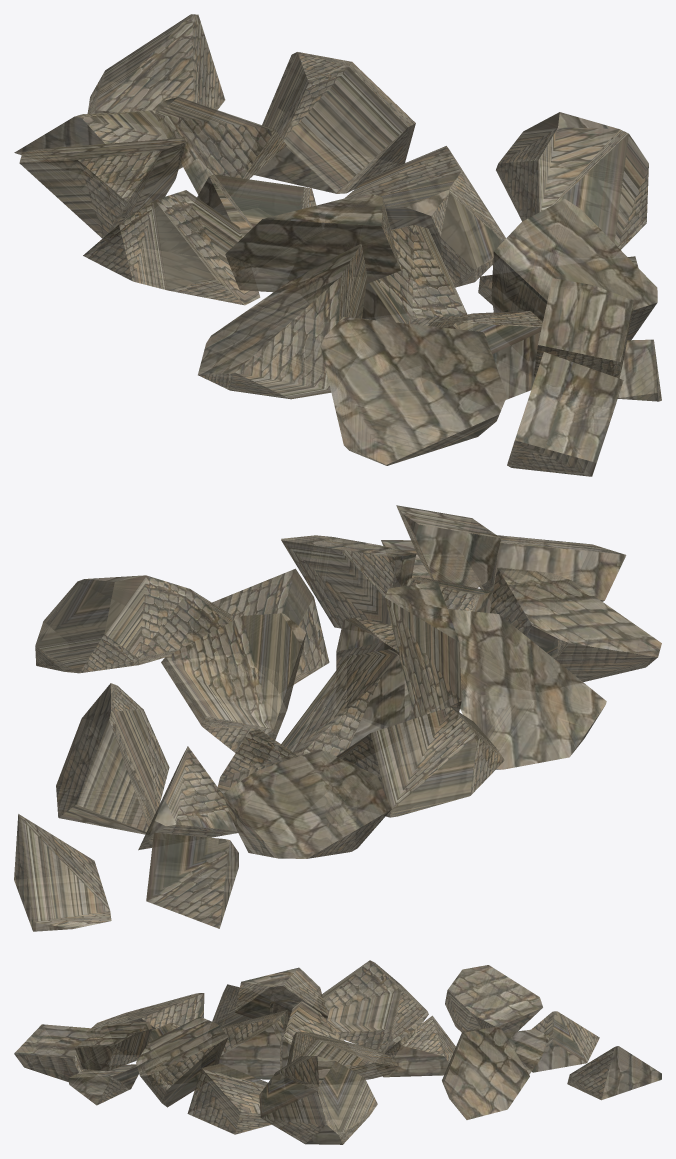
Rendered from BreakWallSmall_000017.obj.
3 views of the same model, one above another, from view 1: azimuth 30°, elevation 25°; view 2: azimuth 150°, elevation 25°; view 3: azimuth 270°, elevation 25° (orthographic). The views are drawn at different scales.
Parts seen in each view (by area): view 1: Cube.002_cell.013_Cube.002_cell.012, Cube.002_cell.014_Cube.002_cell.013, Cube.002_cell.017_Cube.002_cell.016, Cube.002_cell.003_Cube.002_cell.002, Cube.002_cell.004_Cube.002_cell.003, Cube.002_cell.012_Cube.002_cell.011, Cube.002_cell.009_Cube.002_cell.008, Cube.002_cell.015_Cube.002_cell.014, Cube.002_cell.010_Cube.002_cell.009, Cube.002_cell.002_Cube.002_cell.001, Cube.002_cell.005_Cube.002_cell.004, Cube.002_cell.007_Cube.002_cell.006 (+6 smaller); view 2: Cube.002_cell.017_Cube.002_cell.016, Cube.002_cell.003_Cube.002_cell.002, Cube.002_cell.010_Cube.002_cell.009, Cube.002_cell.015_Cube.002_cell.014, Cube.002_cell.014_Cube.002_cell.013, Cube.002_cell.013_Cube.002_cell.012, Cube.002_cell.012_Cube.002_cell.011, Cube.002_cell.006_Cube.002_cell.005, Cube.002_cell.004_Cube.002_cell.003, Cube.002_cell.005_Cube.002_cell.004, Cube.002_cell.009_Cube.002_cell.008, Cube.002_cell.018_Cube.002_cell.017 (+7 smaller); view 3: Cube.002_cell.003_Cube.002_cell.002, Cube.002_cell.012_Cube.002_cell.011, Cube.002_cell.014_Cube.002_cell.013, Cube.002_cell.004_Cube.002_cell.003, Cube.002_cell.010_Cube.002_cell.009, Cube.002_cell.016_Cube.002_cell.015, Cube.002_cell.008_Cube.002_cell.007, Cube.002_cell.009_Cube.002_cell.008, Cube.002_cell.005_Cube.002_cell.004, Cube.002_cell.002_Cube.002_cell.001, Cube.002_cell_Cube.002_cell.020, Cube.002_cell.007_Cube.002_cell.006 (+7 smaller).
Boxes of the visible parts, x1,y1,x2,y2 form: Cube.002_cell.013_Cube.002_cell.012: (320, 317, 506, 465); Cube.002_cell.014_Cube.002_cell.013: (254, 52, 415, 193); Cube.002_cell.017_Cube.002_cell.016: (198, 243, 367, 399); Cube.002_cell.003_Cube.002_cell.002: (496, 112, 648, 249); Cube.002_cell.004_Cube.002_cell.003: (491, 199, 657, 340); Cube.002_cell.012_Cube.002_cell.011: (83, 190, 260, 305); Cube.002_cell.009_Cube.002_cell.008: (225, 192, 400, 292); Cube.002_cell.015_Cube.002_cell.014: (345, 146, 505, 287); Cube.002_cell.010_Cube.002_cell.009: (19, 138, 185, 238); Cube.002_cell.002_Cube.002_cell.001: (507, 352, 623, 476); Cube.002_cell.005_Cube.002_cell.004: (87, 14, 225, 113); Cube.002_cell.007_Cube.002_cell.006: (534, 278, 633, 378); Cube.002_cell.017_Cube.002_cell.016: (447, 609, 606, 769); Cube.002_cell.003_Cube.002_cell.002: (35, 575, 233, 673); Cube.002_cell.010_Cube.002_cell.009: (222, 749, 391, 858); Cube.002_cell.015_Cube.002_cell.014: (161, 613, 306, 752); Cube.002_cell.014_Cube.002_cell.013: (56, 683, 169, 834); Cube.002_cell.013_Cube.002_cell.012: (490, 567, 661, 681); Cube.002_cell.012_Cube.002_cell.011: (336, 706, 504, 817); Cube.002_cell.006_Cube.002_cell.005: (281, 649, 404, 756); Cube.002_cell.004_Cube.002_cell.003: (281, 535, 415, 628); Cube.002_cell.005_Cube.002_cell.004: (14, 814, 111, 931); Cube.002_cell.009_Cube.002_cell.008: (385, 581, 461, 718); Cube.002_cell.018_Cube.002_cell.017: (146, 832, 238, 928); Cube.002_cell.003_Cube.002_cell.002: (259, 1056, 377, 1144); Cube.002_cell.012_Cube.002_cell.011: (322, 960, 428, 1053); Cube.002_cell.014_Cube.002_cell.013: (442, 1026, 529, 1119); Cube.002_cell.004_Cube.002_cell.003: (136, 1016, 228, 1107); Cube.002_cell.010_Cube.002_cell.009: (445, 965, 542, 1032); Cube.002_cell.016_Cube.002_cell.015: (187, 1063, 271, 1134); Cube.002_cell.008_Cube.002_cell.007: (219, 1010, 287, 1079); Cube.002_cell.009_Cube.002_cell.008: (234, 967, 327, 1021); Cube.002_cell.005_Cube.002_cell.004: (567, 1046, 661, 1100); Cube.002_cell.002_Cube.002_cell.001: (14, 1024, 99, 1082); Cube.002_cell_Cube.002_cell.020: (383, 1015, 455, 1077); Cube.002_cell.007_Cube.002_cell.006: (75, 1021, 152, 1071).
Size of the model in its own units: 27.56 by 6.84 by 50.69.
2 materials, 2 textured.
